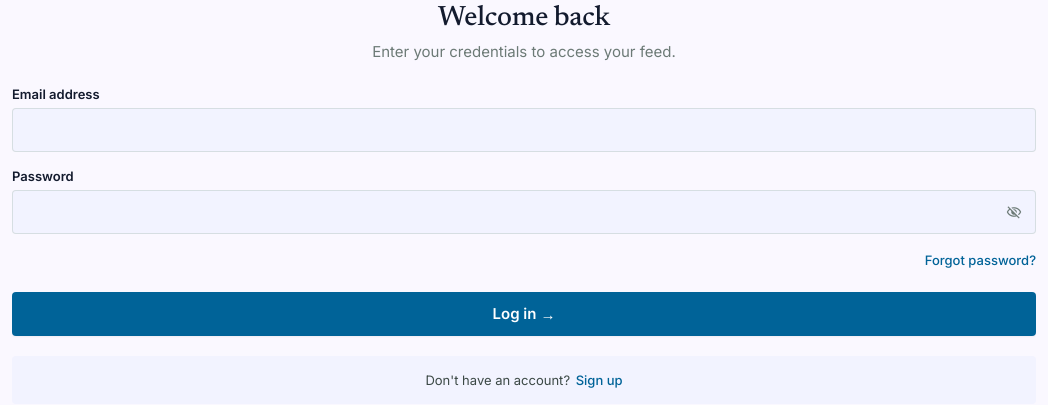
Test: LoginForm › shows the loading state while logging in
Type "ada@example.test" into the field labelled "Email address" at (524, 130), box [12,108,1036,152]
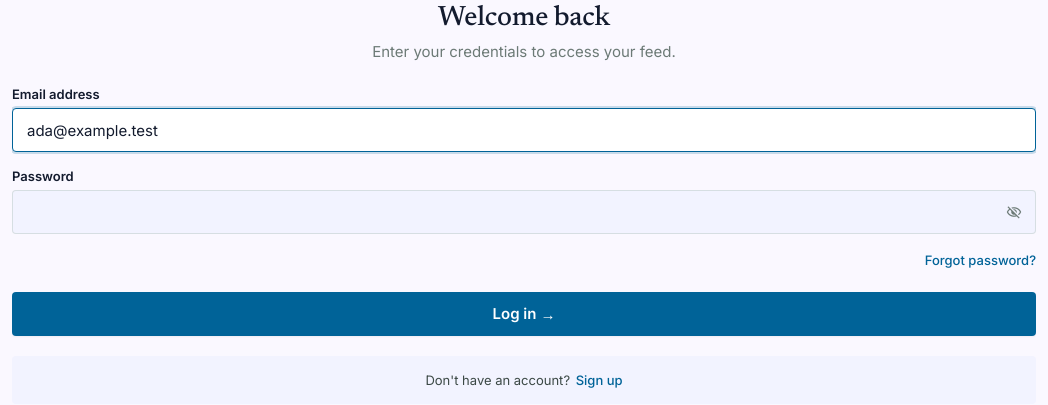
Type "correct-horse" into the password field labelled "Password" at (524, 212), box [12,190,1036,234]
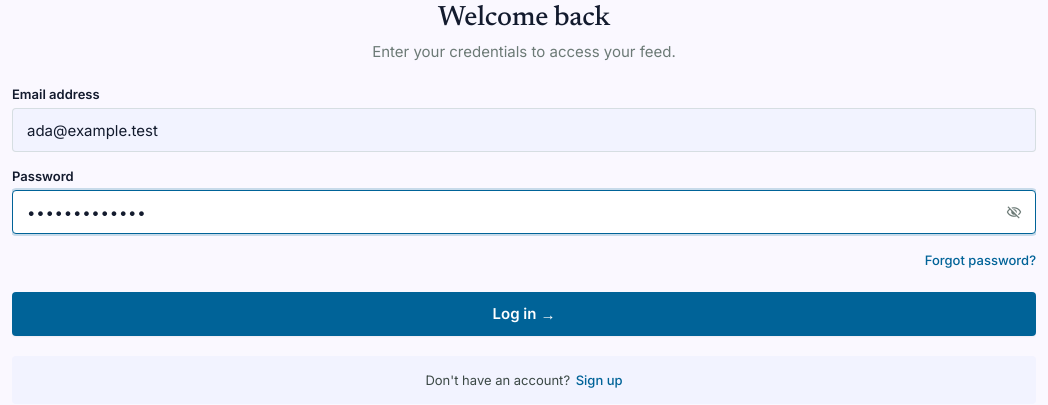
Click the button "Log in →" at (524, 314), box [12,292,1036,336]
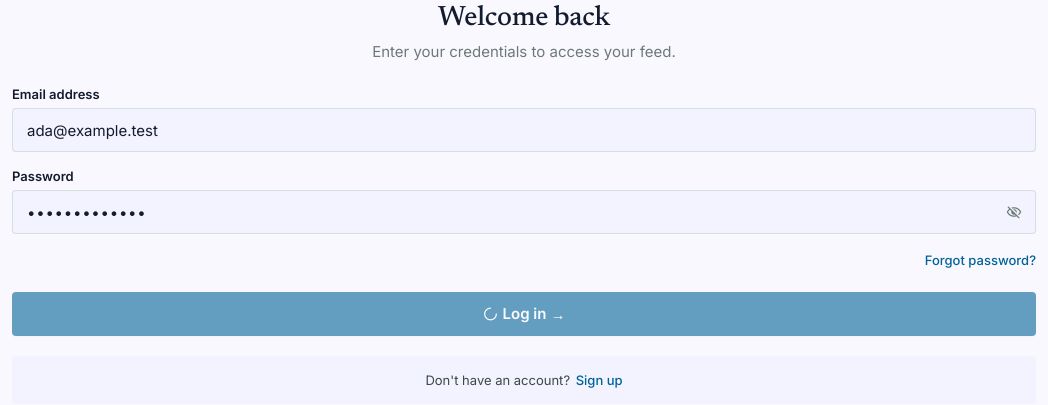
Expected: the button "Log in →" is disabled, [12,292,1036,336]
